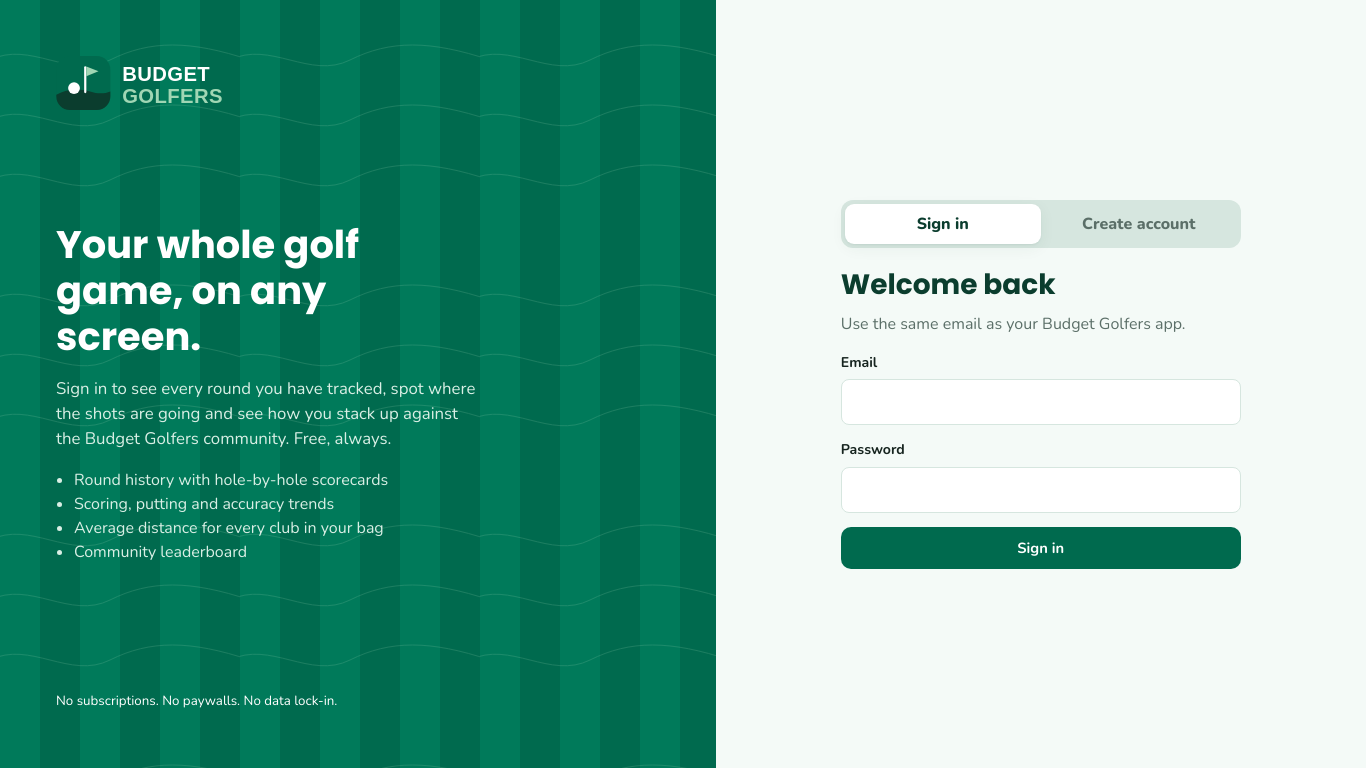
Scenario: routing and sign-in › client-side checks run before anything is sent
Click the button "Sign in".
click(1041, 548)  # box [841,526,1241,568]
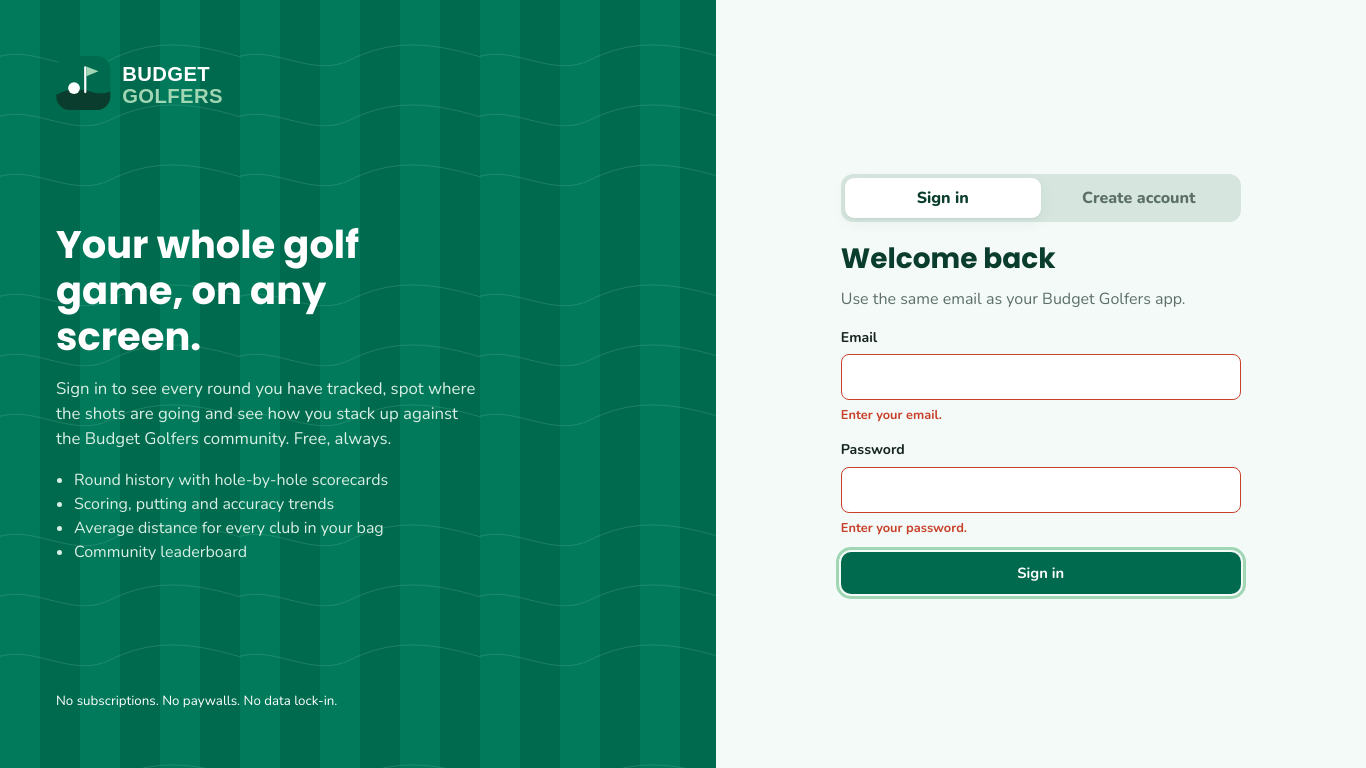
Check: the text "Enter your email." is shown, box [841,406,942,424]
Check: the text "Enter your password." is shown, box [841,518,967,536]
